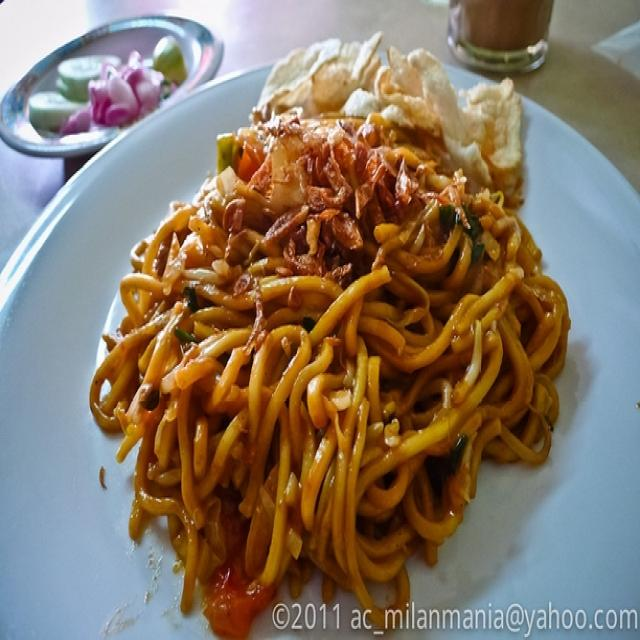面条主食: (32, 44, 628, 607)
